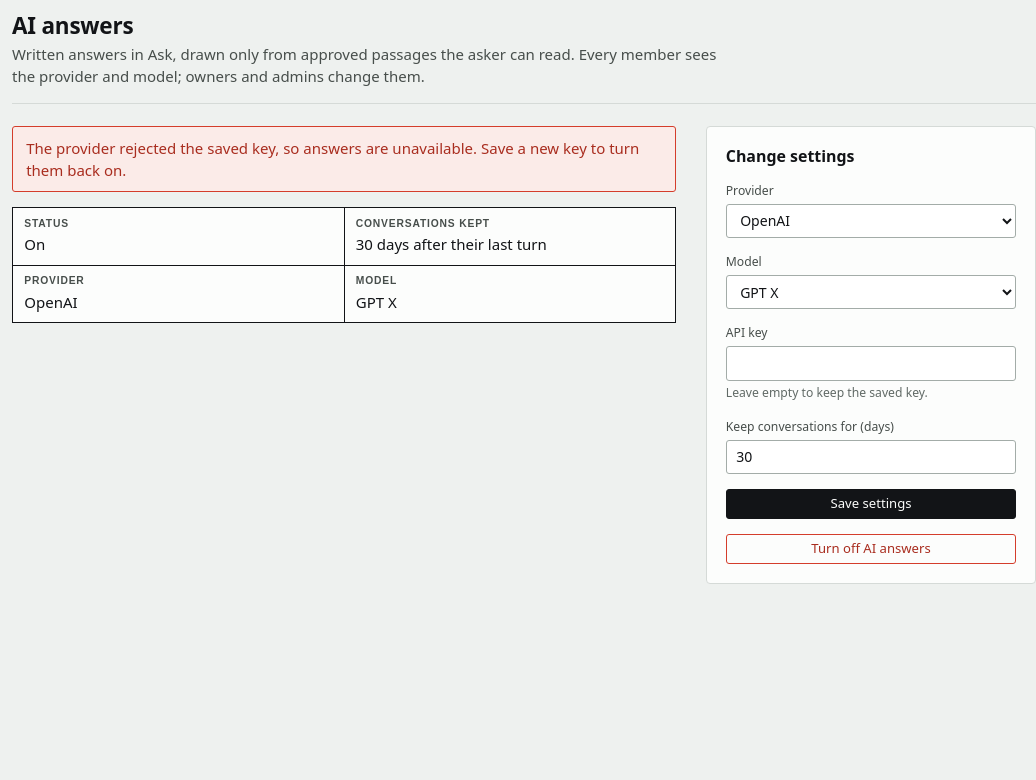
Test: AI settings page › shows an admin the form and the rejected-key warning, and empties the key field after saving
This screenshot has width=1036, height=780.
Type "sk-new" into the password field labelled "API key Leave empty to keep the saved key." at (871, 363), box [726,346,1016,381]
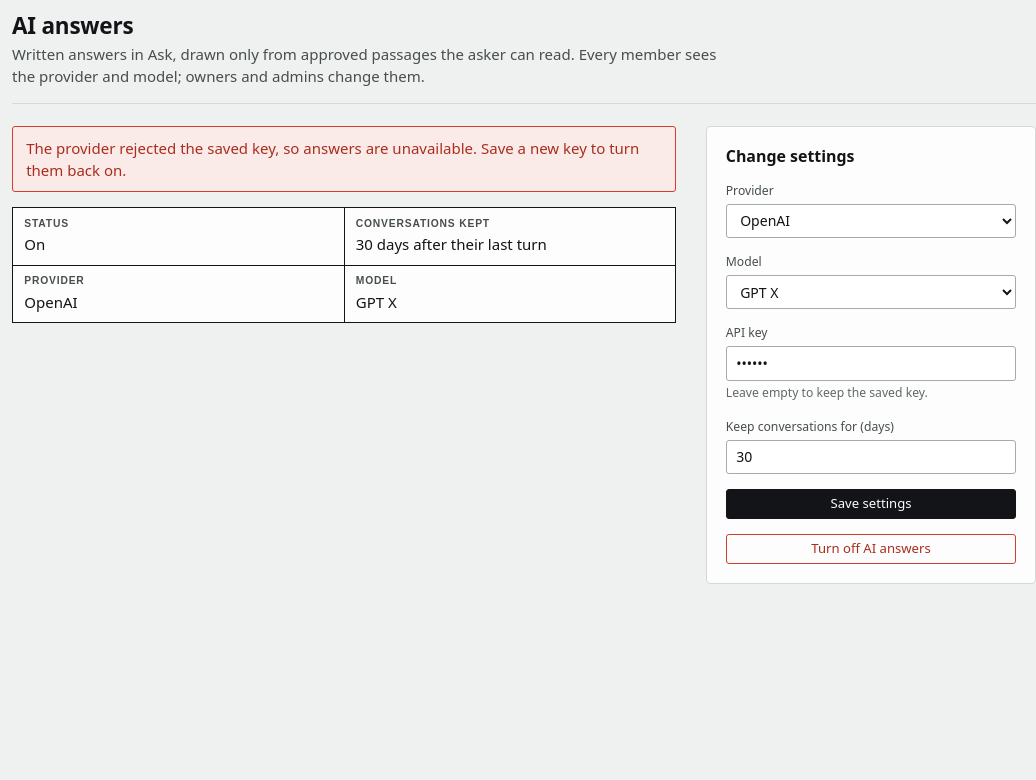
Submit the form, box [706,126,1035,584]
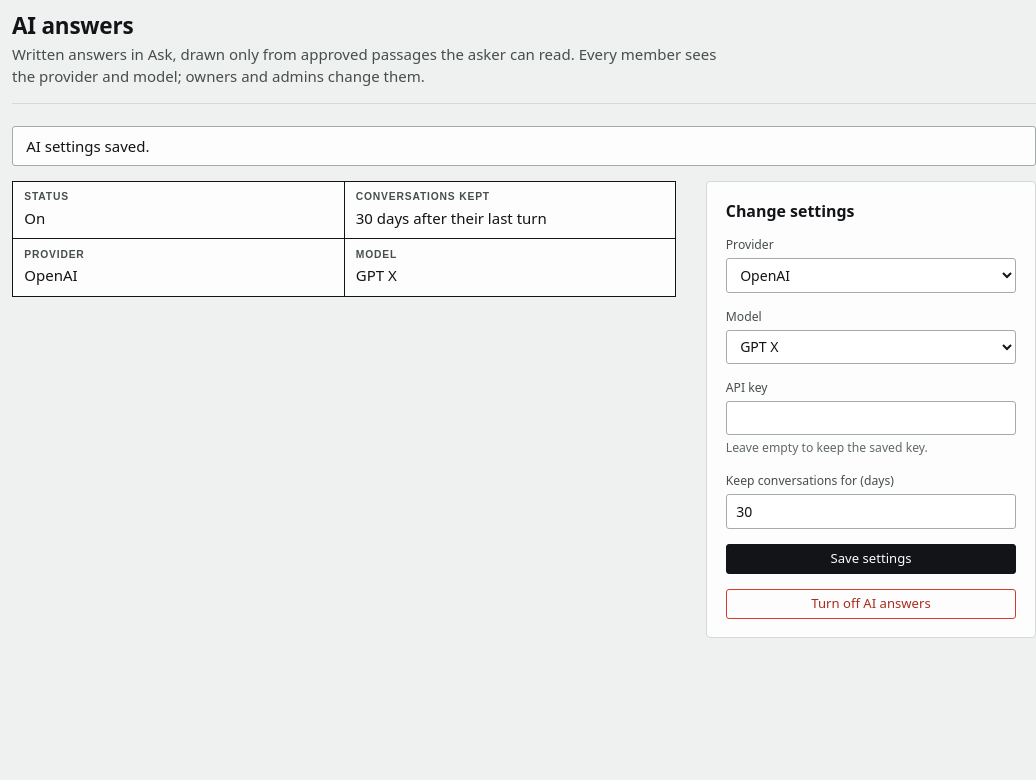
Expected: the password field labelled "API key Leave empty to keep the saved key." is empty, [726,401,1016,435]
Expected: the text "AI settings saved." is shown, [12,126,1035,166]
